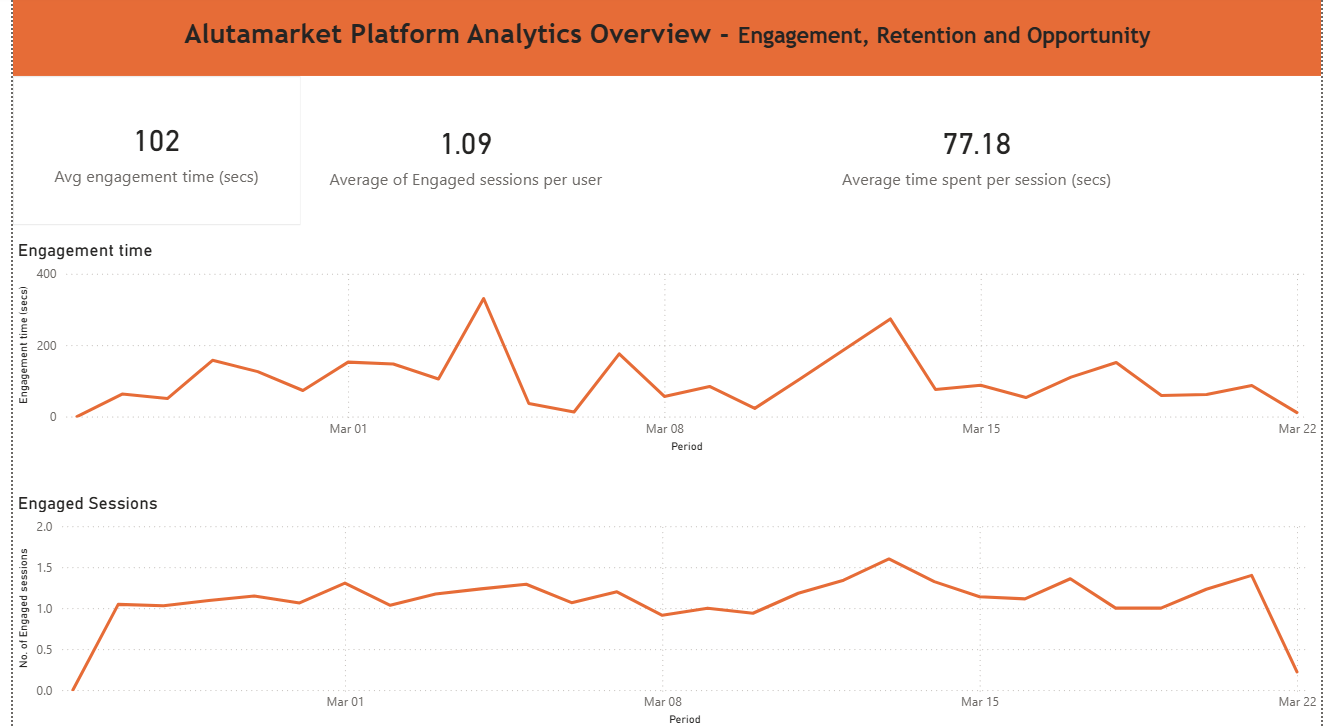

This screenshot's page, from the dashboard's own definition file:
{"tool":"powerbi","page":{"name":"Page 2","canvas":[1280,720],"ordinal":1},"visuals":[{"type":"textbox","title":"Engagement and Behavior","box":[0,0,1280.3,79.6],"z":0},{"type":"lineChart","title":"Engagement time","fields":{"Y":["Sum(engagement.Avg engagement time (secs))"],"Category":["engagement.Date.Variation.Date Hierarchy.Year","engagement.Date.Variation.Date Hierarchy.Quarter","engagement.Date.Variation.Date Hierarchy.Month","engagement.Date.Variation.Date Hierarchy.Day"]},"box":[0,240.1,1280.3,212.7],"z":1000},{"type":"lineChart","title":"Engaged Sessions ","fields":{"Y":["Sum(engagement.Engaged sessions per user)"],"Category":["engagement.Date"]},"box":[0,487.1,1280.3,233.3],"z":2000},{"type":"card","fields":{"Values":["Avg(engagement.Avg engagement time (secs))"]},"box":[0,79.6,281.3,145.5],"z":3000},{"type":"textbox","box":[956.4,91.9,323.8,119.4],"z":3001},{"type":"card","fields":{"Values":["Avg(engagement.Avg time per session (secs))"]},"box":[605.1,79.6,675.1,150.9],"z":3002},{"type":"card","fields":{"Values":["Avg(engagement.Engaged sessions per user)"]},"box":[281.3,79.6,323.8,150.9],"z":3003}]}

Visuals, with their boxes in screenshot pixels (x1, y1, x2, y2), scaled from the page's 1280x720 canvas onto the 1324x728 screenshot:
"Engagement and Behavior" textbox: box(0, 0, 1323, 80)
"Engagement time" lineChart: box(0, 243, 1323, 458)
"Engaged Sessions " lineChart: box(0, 493, 1323, 727)
card - Avg(engagement.Avg engagement time (secs)): box(0, 80, 291, 228)
textbox: box(989, 93, 1323, 214)
card - Avg(engagement.Avg time per session (secs)): box(626, 80, 1323, 233)
card - Avg(engagement.Engaged sessions per user): box(291, 80, 626, 233)
